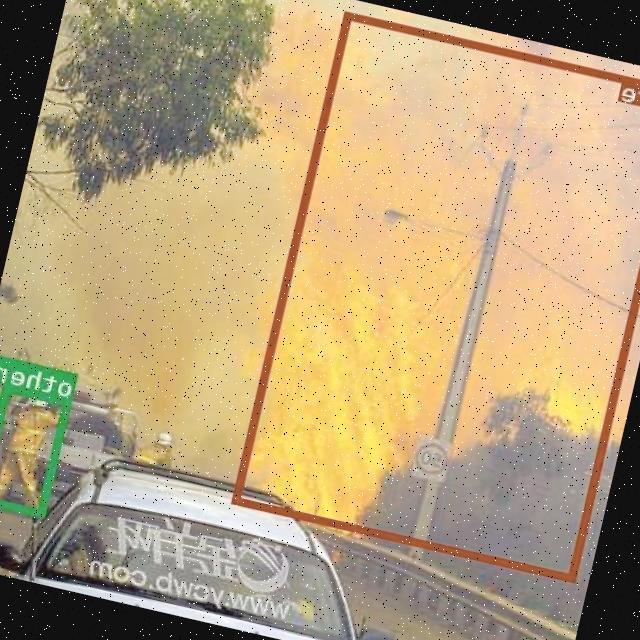fire: (233, 9, 640, 580)
